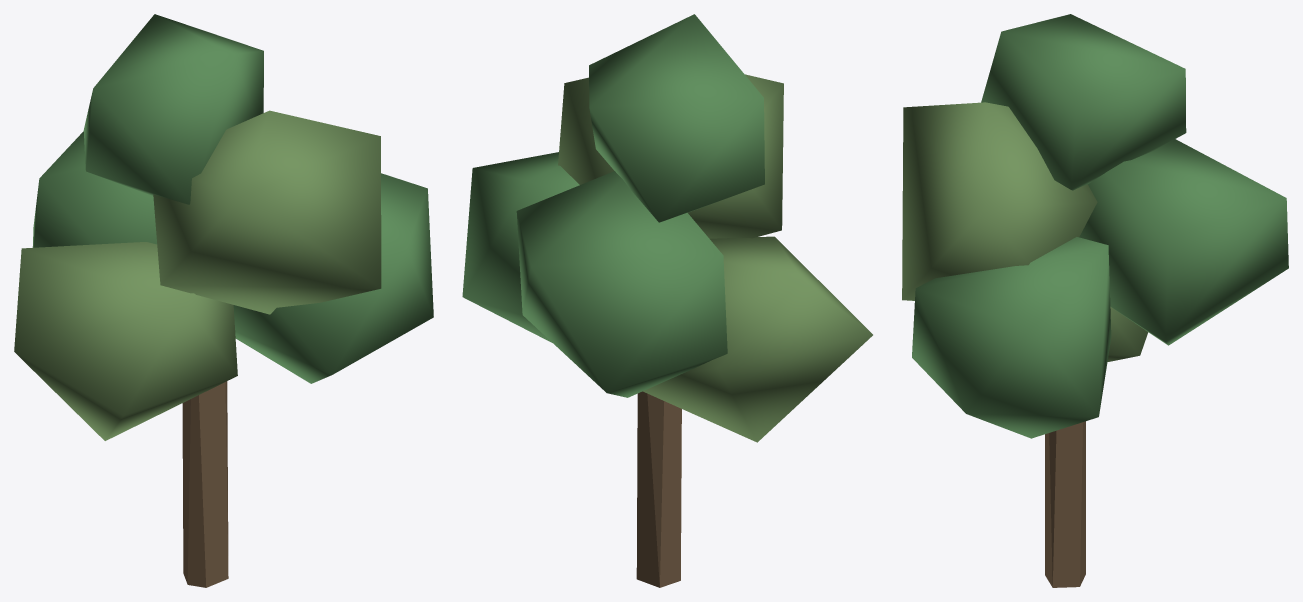
Rendered from norway-alder_lod1.glb.
3 views of the same model, side by side, from view 1: azimuth 30°, elevation 25°; view 2: azimuth 150°, elevation 25°; view 3: azimuth 270°, elevation 25° (orthographic).
Visible parts, largest first — view 1: RF_Alder_Crown3, RF_Alder_Crown0, RF_Alder_Crown4, RF_Alder_Crown1, RF_Alder_Trunk, RF_Alder_Crown2; view 2: RF_Alder_Crown2, RF_Alder_Crown4, RF_Alder_Crown0, RF_Alder_Crown1, RF_Alder_Crown3, RF_Alder_Trunk; view 3: RF_Alder_Crown1, RF_Alder_Crown2, RF_Alder_Crown3, RF_Alder_Crown4, RF_Alder_Trunk, RF_Alder_Crown0.
Part boxes in pixels (box(x1,y1,x2,y2)): RF_Alder_Crown3: box(153, 110, 381, 314); RF_Alder_Crown0: box(14, 242, 237, 440); RF_Alder_Crown4: box(83, 14, 263, 204); RF_Alder_Crown1: box(233, 173, 433, 383); RF_Alder_Trunk: box(182, 381, 228, 587); RF_Alder_Crown2: box(32, 131, 157, 247); RF_Alder_Crown2: box(516, 171, 727, 397); RF_Alder_Crown4: box(589, 14, 764, 222); RF_Alder_Crown0: box(643, 236, 872, 442); RF_Alder_Crown1: box(462, 152, 579, 342); RF_Alder_Crown3: box(558, 74, 783, 238); RF_Alder_Trunk: box(636, 391, 681, 587); RF_Alder_Crown1: box(912, 237, 1111, 438); RF_Alder_Crown2: box(1079, 139, 1288, 345); RF_Alder_Crown3: box(902, 102, 1097, 300); RF_Alder_Crown4: box(981, 14, 1186, 190); RF_Alder_Trunk: box(1045, 421, 1085, 587); RF_Alder_Crown0: box(1107, 306, 1148, 361).
Size of the model in its own units: 8.24 by 10.54 by 6.76.
